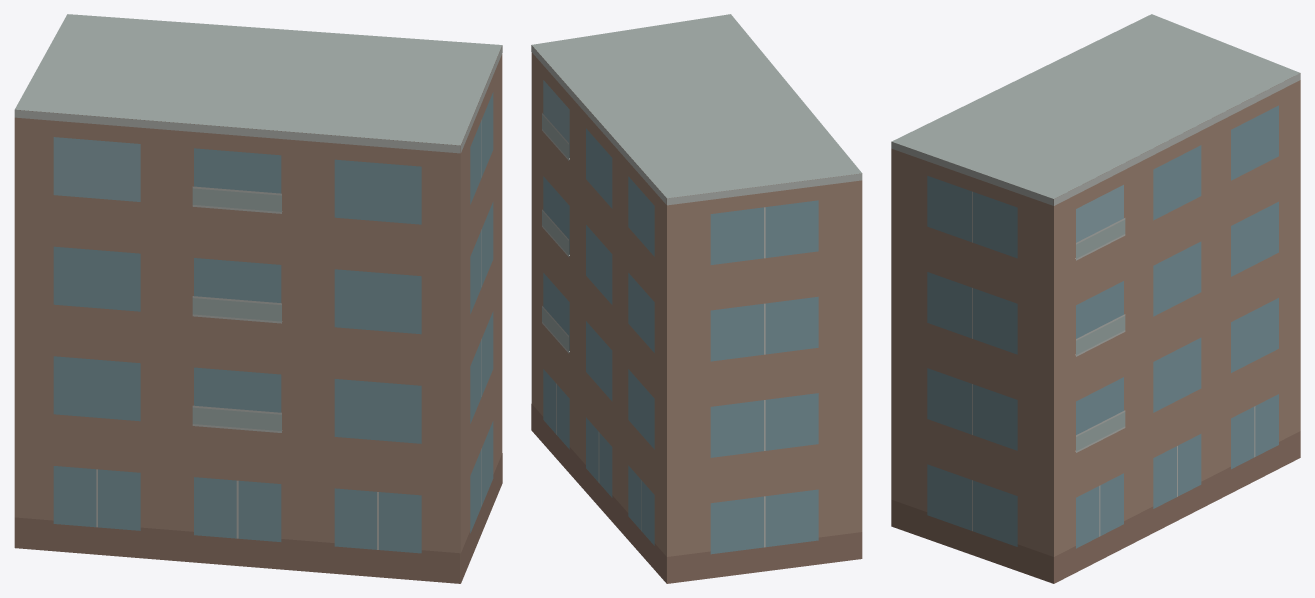
The model's file is survey-upis-32475041.glb.
3 renders of one model, left to right at view 1: azimuth 30°, elevation 25°; view 2: azimuth 150°, elevation 25°; view 3: azimuth 270°, elevation 25°, orthographic. The views are drawn at different scales.
Visible parts, largest first — view 1: survey-upis-32475041.tmp; view 2: survey-upis-32475041.tmp; view 3: survey-upis-32475041.tmp.
Boxes of the visible parts, x1,y1,x2,y2 form: survey-upis-32475041.tmp: (14,14,502,583); survey-upis-32475041.tmp: (531,14,862,583); survey-upis-32475041.tmp: (891,14,1300,583).
Size of the model in its own units: 13.83 by 13.4 by 12.92.
